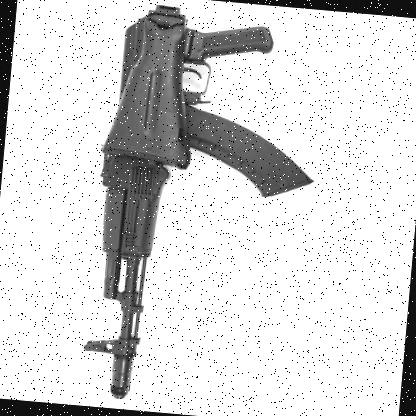rifle: (40, 1, 331, 416)
